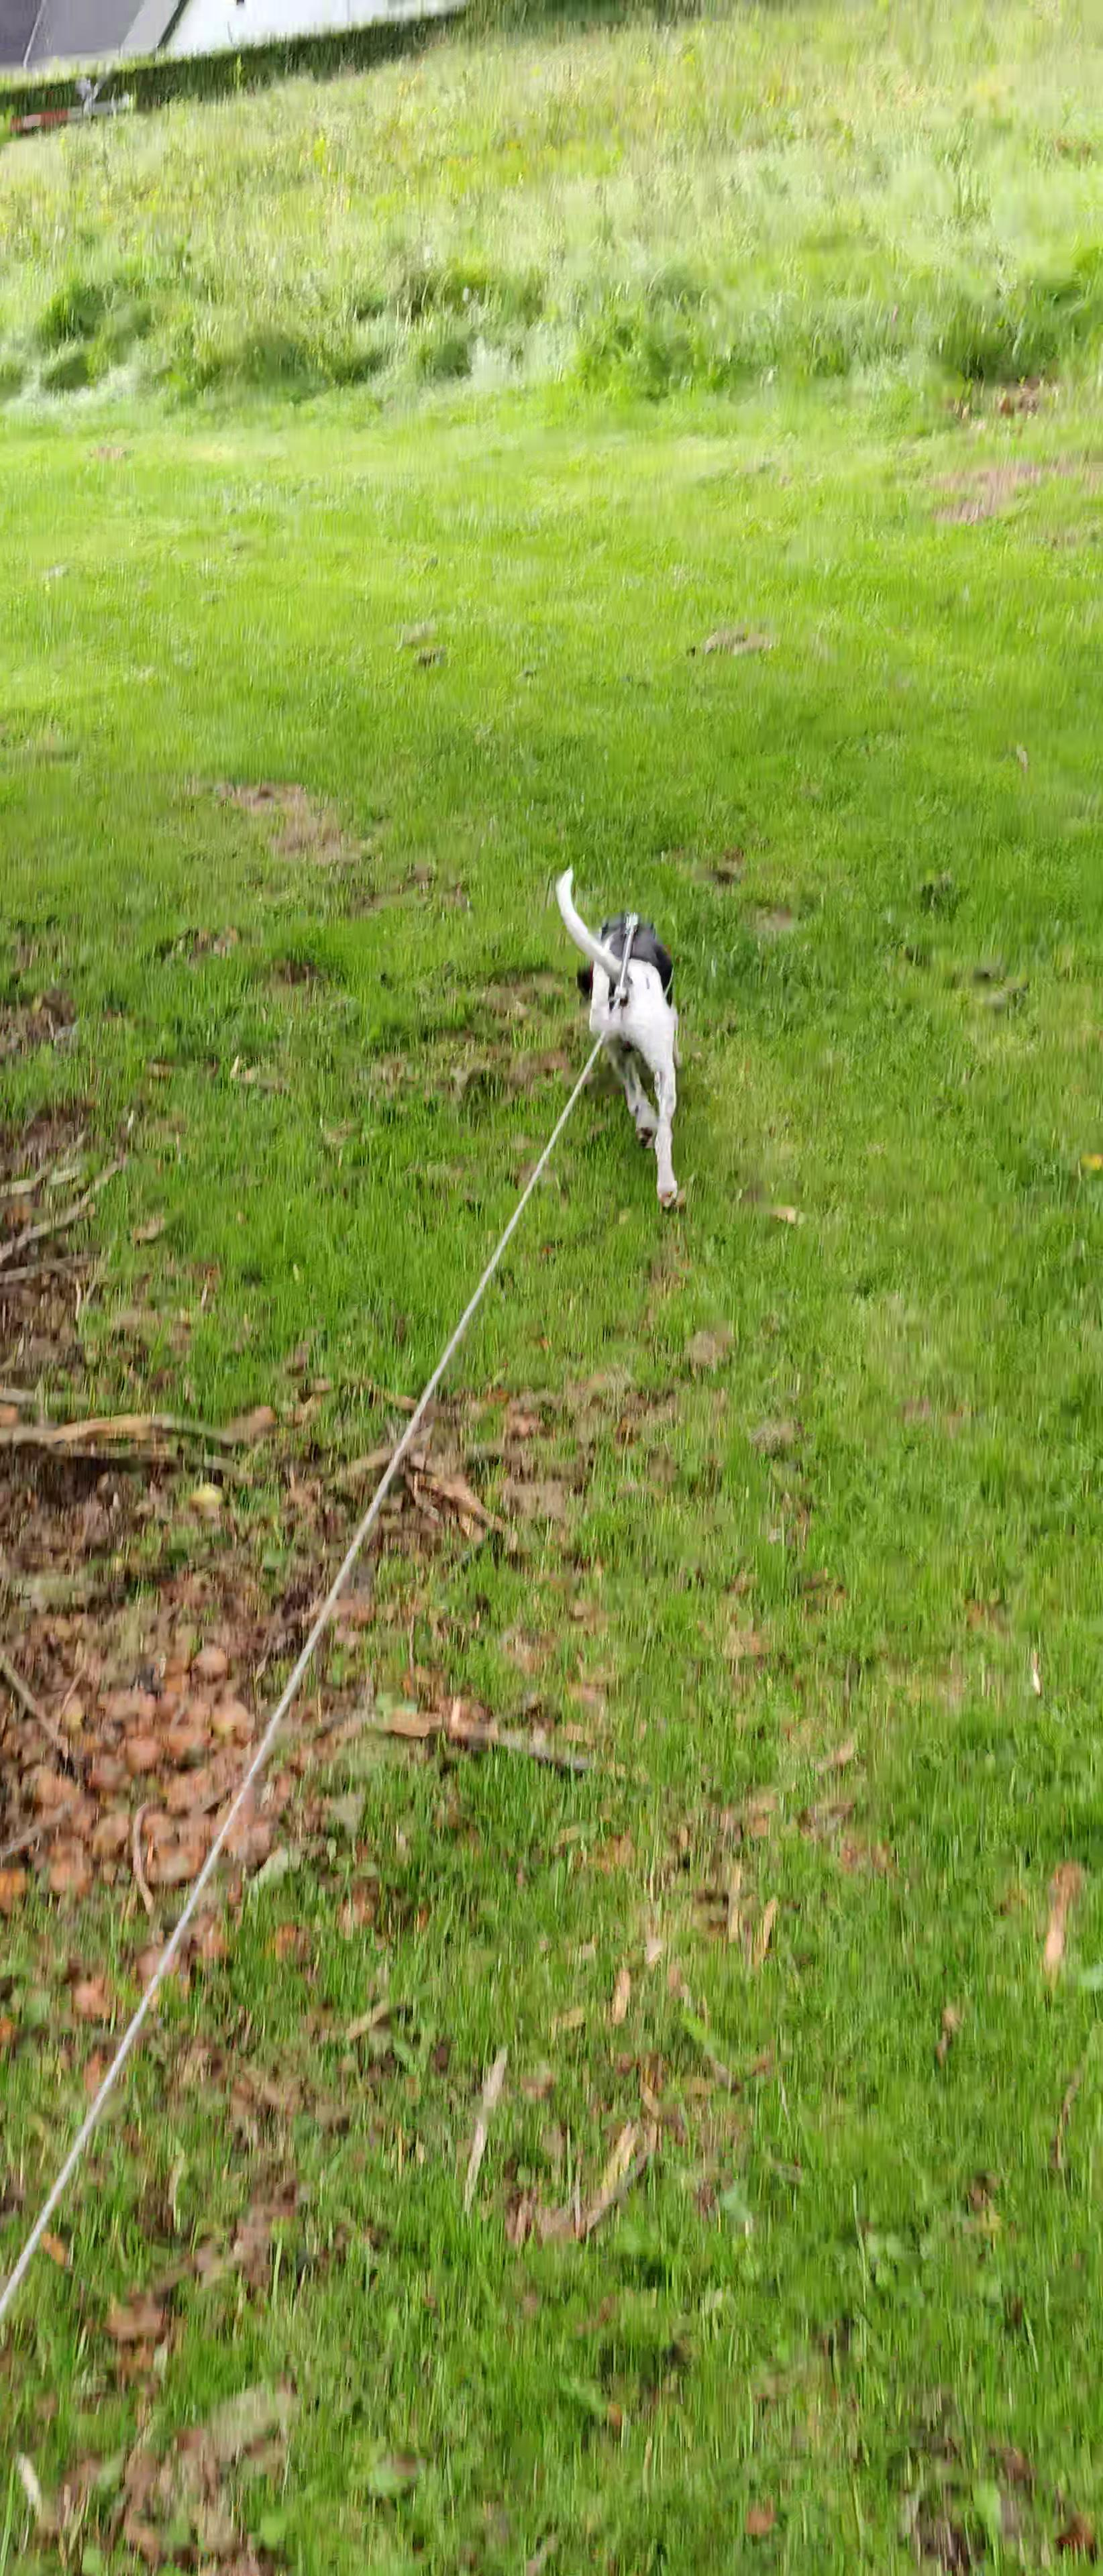Dog: (538, 849, 710, 1226)
